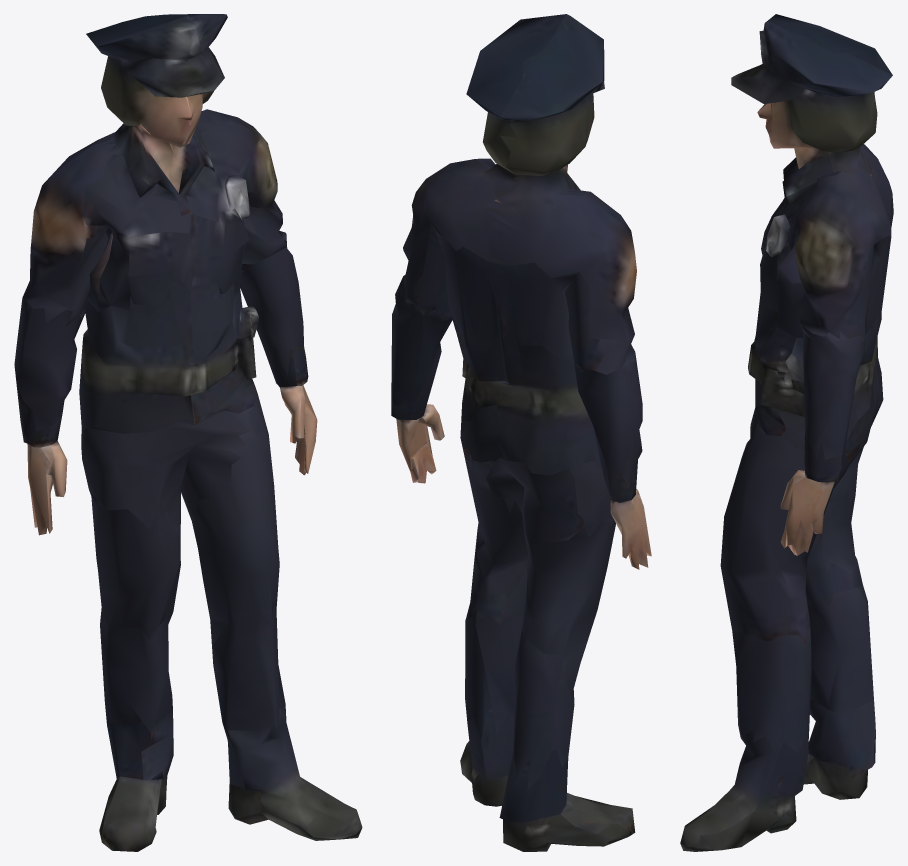
File: polwan_usa_idle_lod2.glb
The picture shows the model from 3 angles, left to right: view 1: azimuth 30°, elevation 25°; view 2: azimuth 150°, elevation 25°; view 3: azimuth 270°, elevation 25°; orthographic projection. The views are drawn at different scales.
Visible parts, largest first — view 1: tripo_node_f0e8774b-4e28-4a62-98a9-9e8da42cc3b5; view 2: tripo_node_f0e8774b-4e28-4a62-98a9-9e8da42cc3b5; view 3: tripo_node_f0e8774b-4e28-4a62-98a9-9e8da42cc3b5.
Boxes of the visible parts, x1,y1,x2,y2 form: tripo_node_f0e8774b-4e28-4a62-98a9-9e8da42cc3b5: (14,14,362,851); tripo_node_f0e8774b-4e28-4a62-98a9-9e8da42cc3b5: (391,14,651,851); tripo_node_f0e8774b-4e28-4a62-98a9-9e8da42cc3b5: (680,14,893,851).
Size of the model in its own units: 34.4 by 99.62 by 24.95.
Materials: 1 (1 with a texture image).
